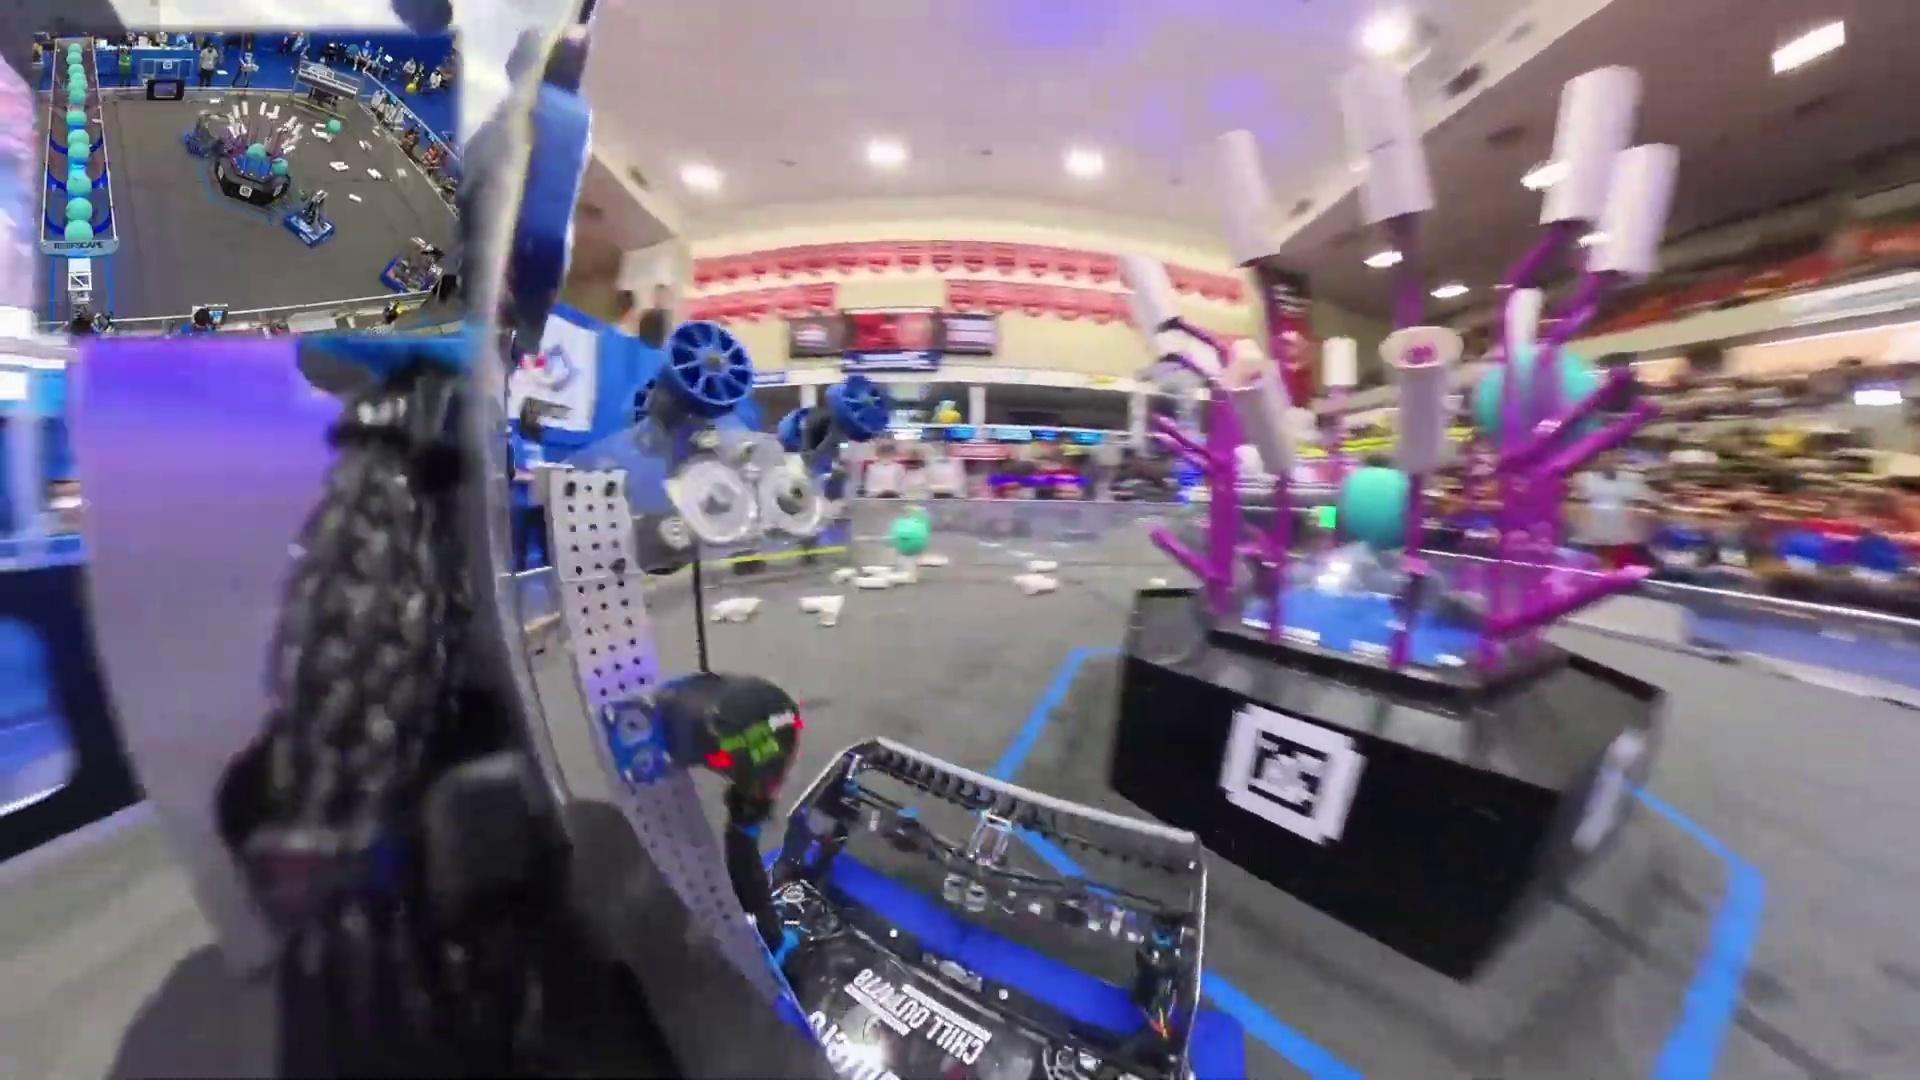robot: (280, 182, 336, 248), (380, 236, 439, 294), (177, 104, 219, 161)
